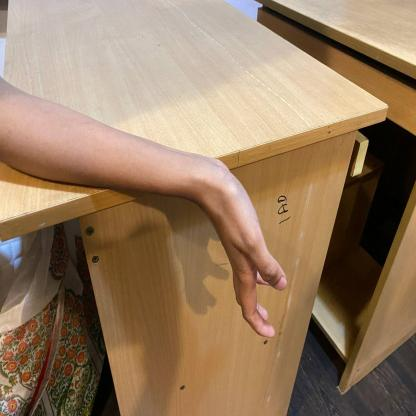hand: (2, 80, 292, 347)
